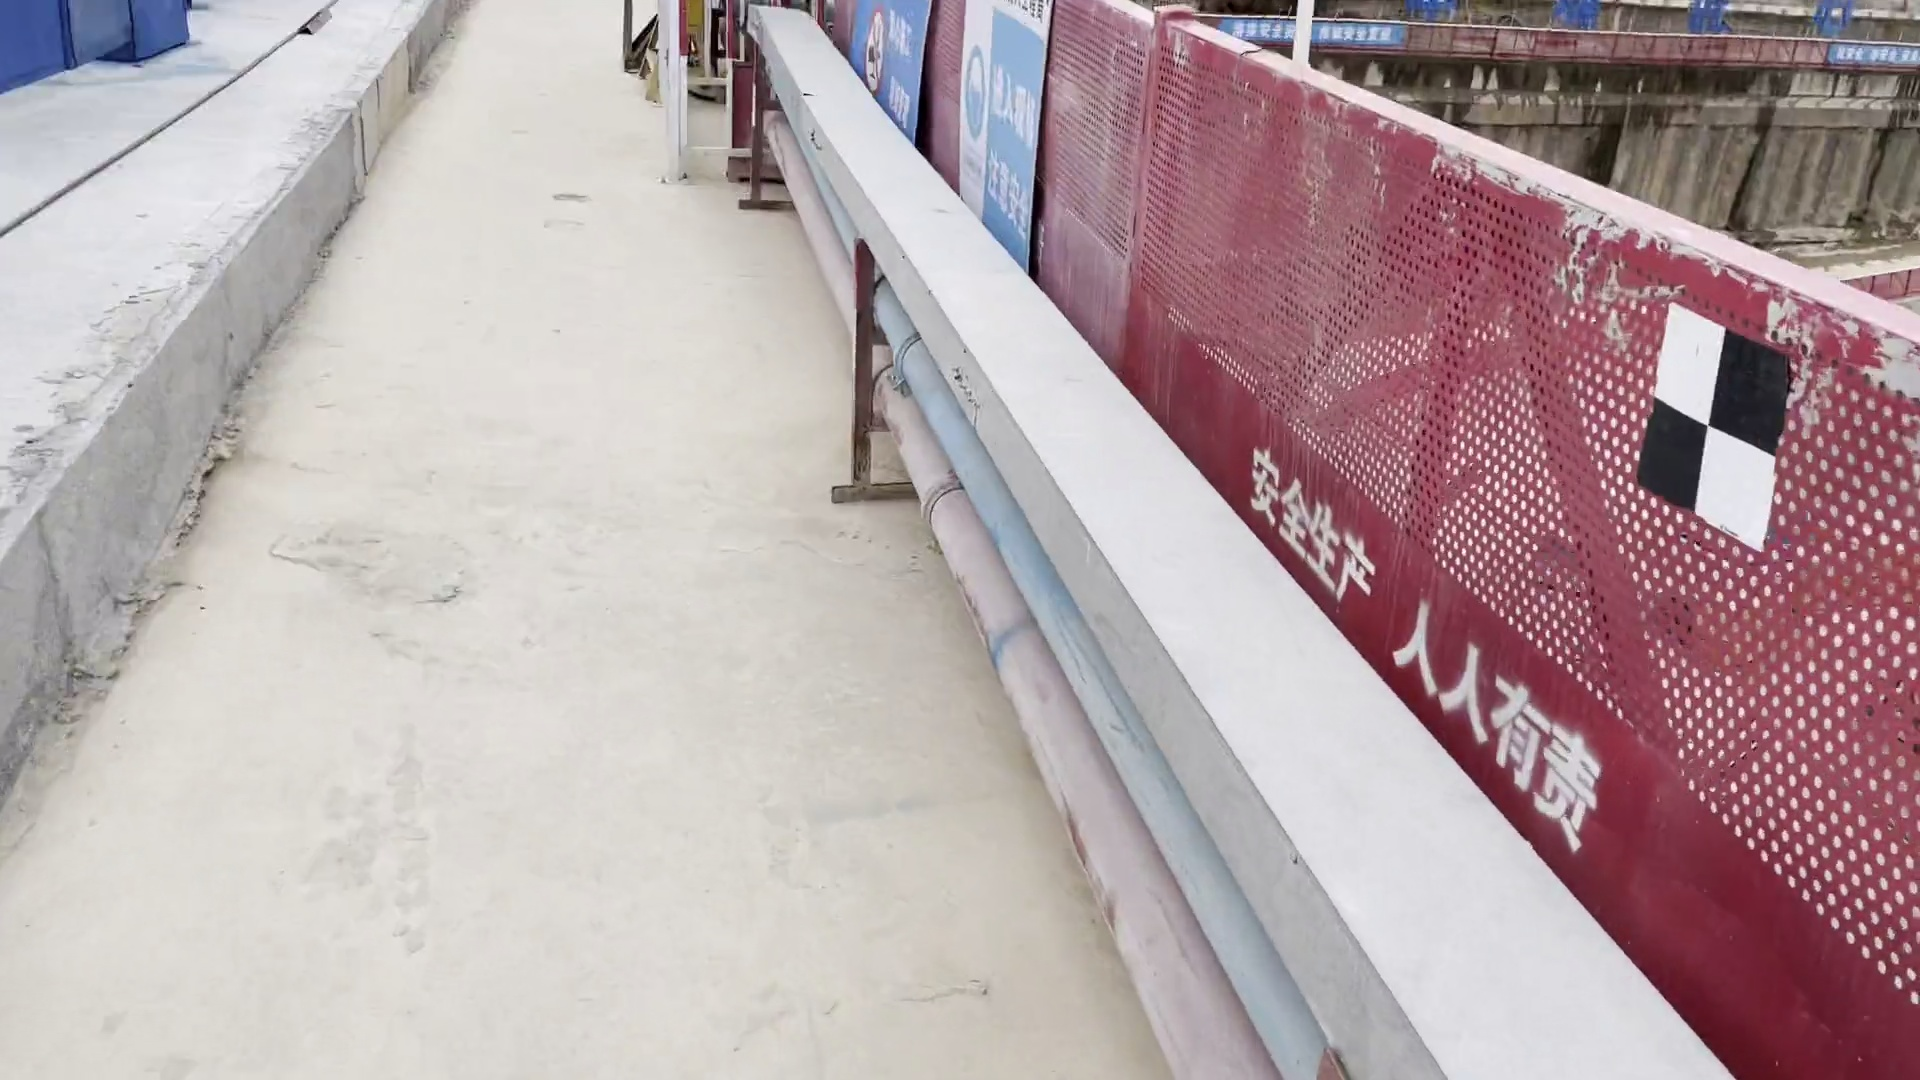fence: (1309, 80, 1920, 1072), (829, 1, 1333, 636), (1207, 11, 1652, 76)
slogan: (829, 1, 1085, 287), (1217, 9, 1418, 69), (1811, 37, 1920, 88)
